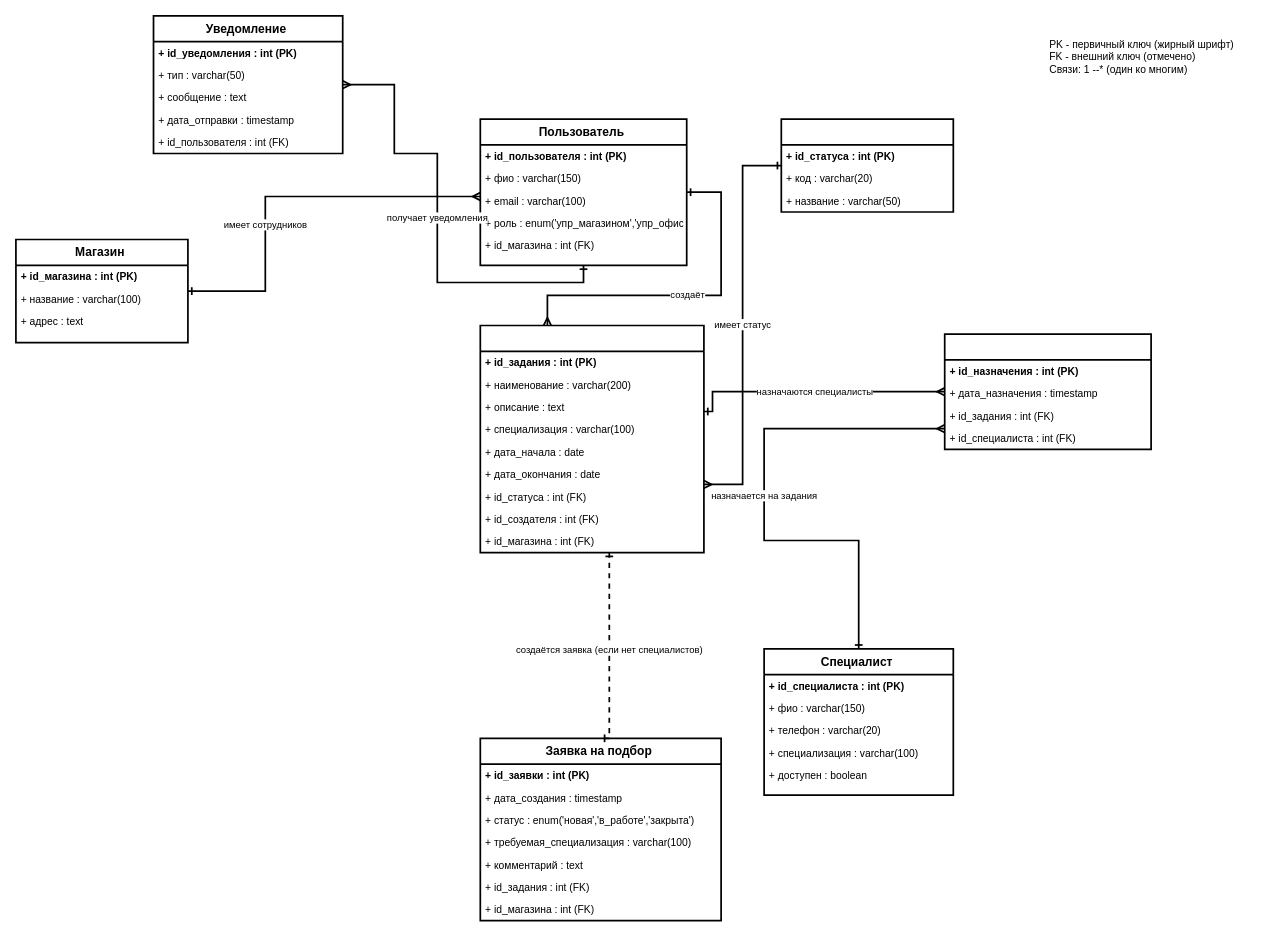
The diagram is 1277 pixels wide and 937 high, and some of its shapes have lost their labels. Each missing label, with the box of its shape:
Задание: (479, 324, 704, 553)
Назначение: (943, 333, 1152, 450)
Статус задания: (780, 118, 954, 212)
